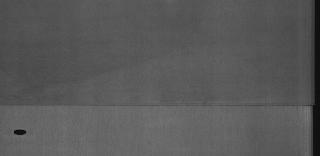punching hole: (12, 128, 30, 136)
welding line: (2, 102, 318, 112)
